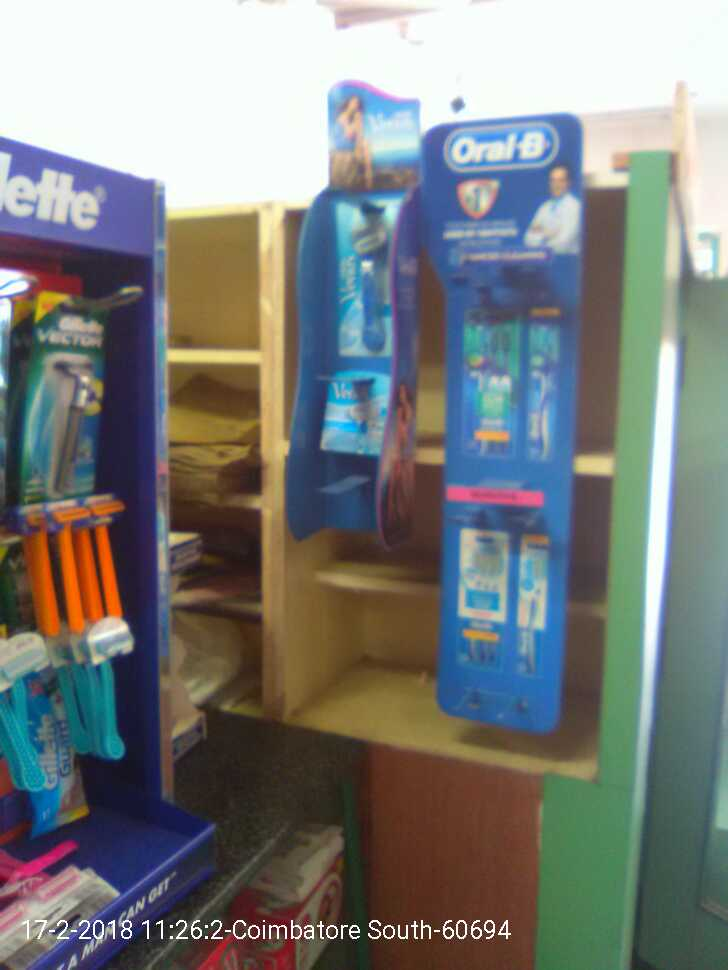beauty: (23, 309, 131, 502), (1, 630, 77, 837), (315, 194, 400, 359), (312, 363, 392, 460)
